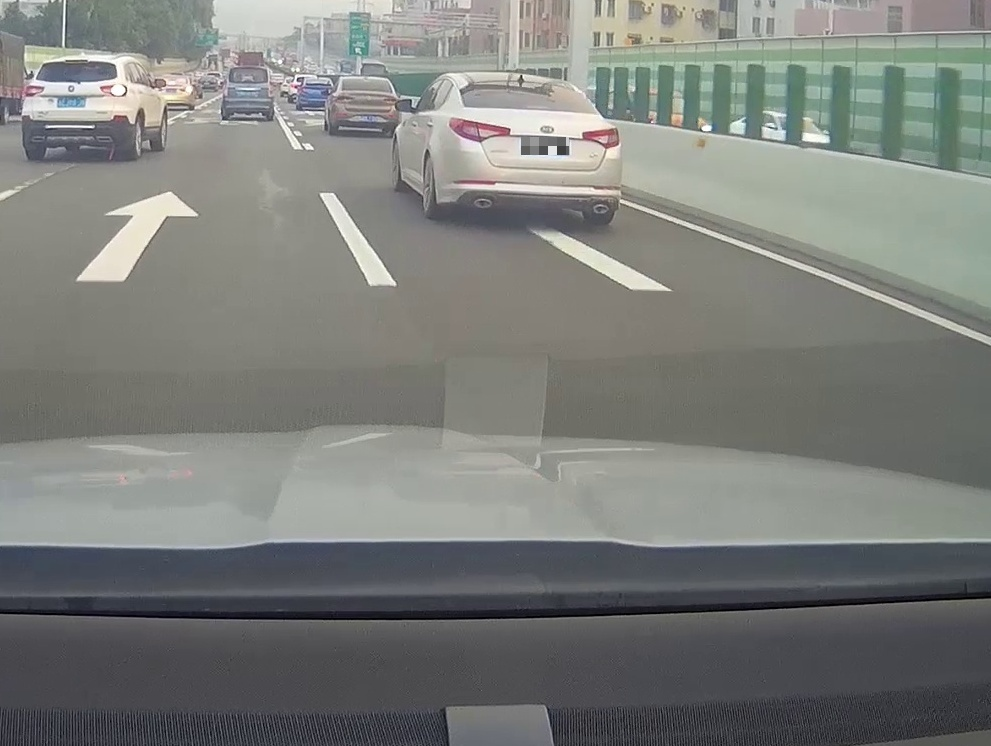L_light: (448, 117, 510, 142), (22, 84, 44, 96), (337, 95, 354, 100)
R_light: (582, 126, 619, 149), (100, 84, 128, 98), (384, 97, 397, 101)
T_light: (524, 104, 549, 109), (65, 59, 88, 63), (361, 79, 372, 81)
day-no: (445, 76, 622, 225), (332, 76, 401, 136)
day-right: (20, 55, 130, 159)
plate_1: (521, 137, 569, 155)
